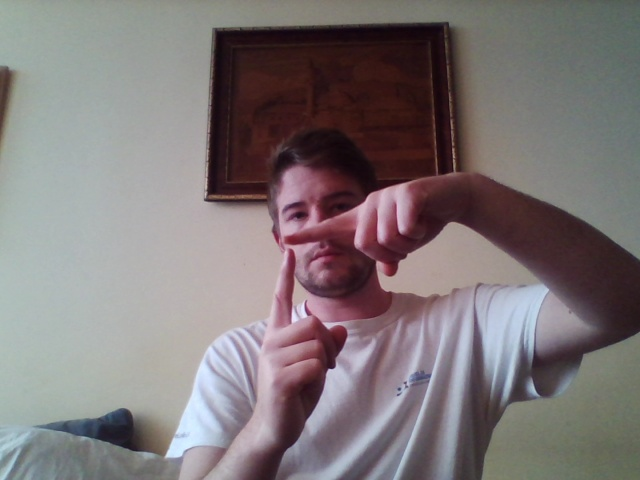kad: (253, 171, 475, 443)
